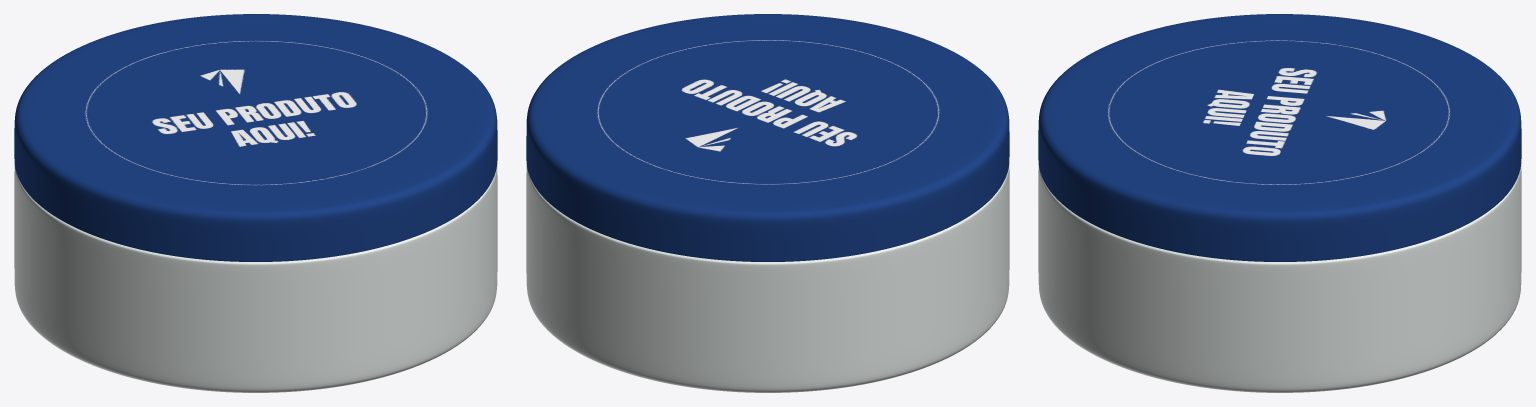
Rendered from pote02.glb.
The picture shows the model from 3 angles, left to right: view 1: azimuth 30°, elevation 25°; view 2: azimuth 150°, elevation 25°; view 3: azimuth 270°, elevation 25°; orthographic projection.
Parts seen in each view (by area): view 1: Circle.007, Circle.006; view 2: Circle.007, Circle.006; view 3: Circle.007, Circle.006.
Boxes of the visible parts, x1=… form: Circle.007: x1=14, y1=14, x2=497, y2=261; Circle.006: x1=14, y1=165, x2=497, y2=392; Circle.007: x1=526, y1=14, x2=1009, y2=261; Circle.006: x1=526, y1=165, x2=1009, y2=392; Circle.007: x1=1038, y1=14, x2=1521, y2=261; Circle.006: x1=1038, y1=165, x2=1521, y2=392.
Bounding box in the file's own units: 0.7655 × 0.3176 × 0.7655.
2 materials, 1 textured.
